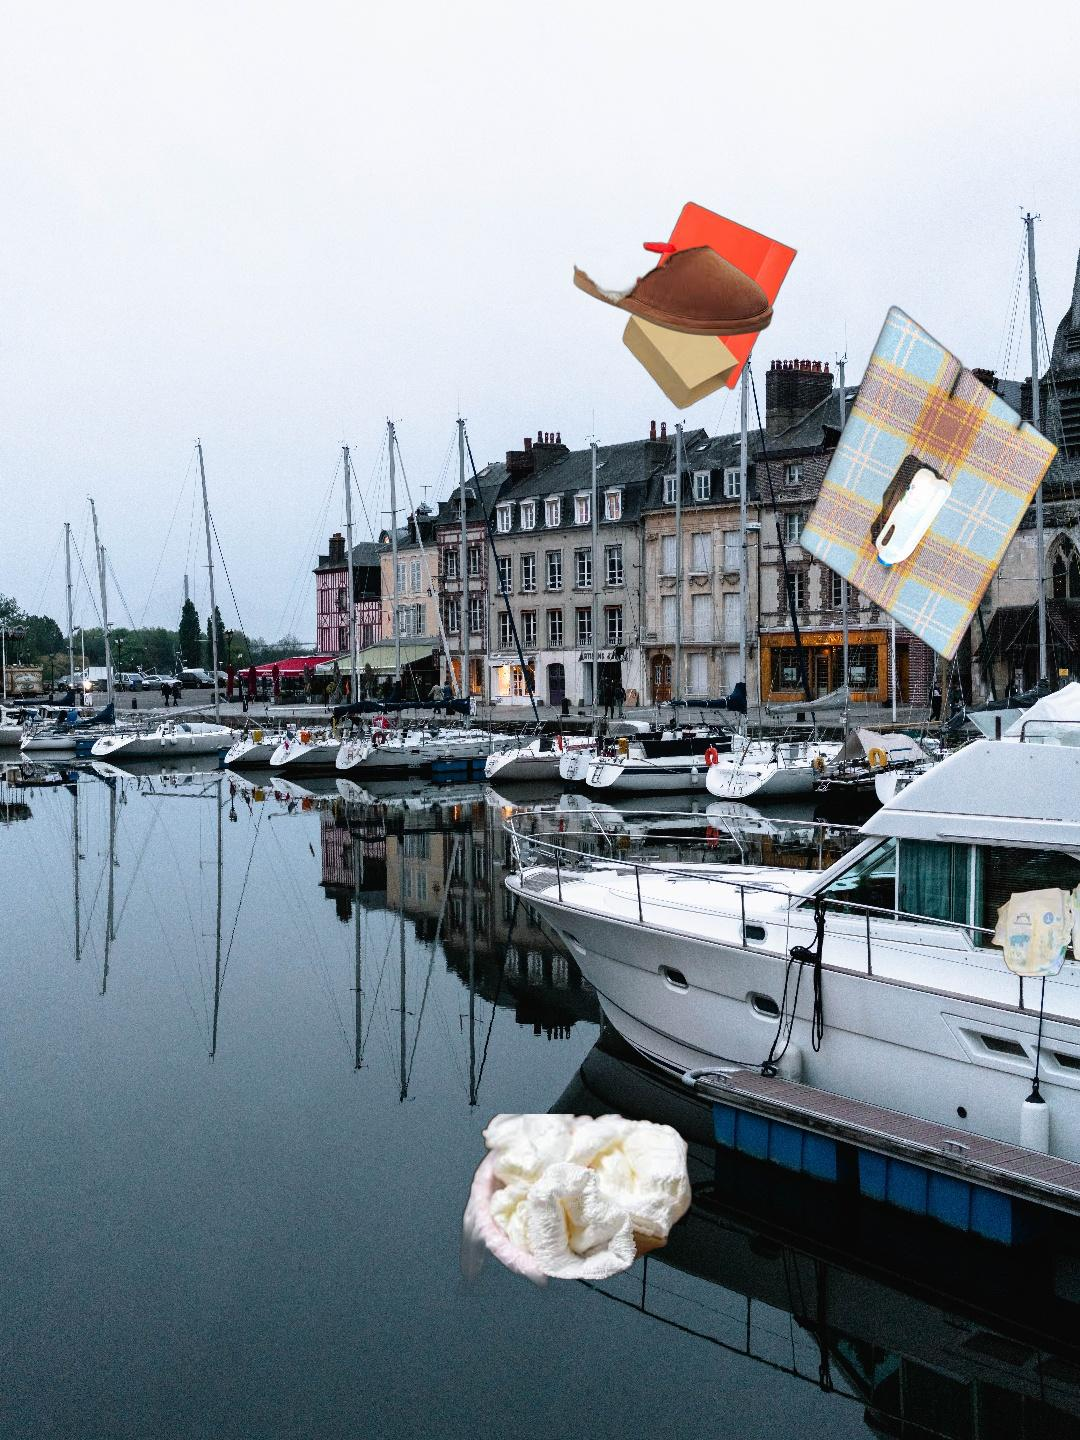paper-bag: (621, 200, 847, 477)
plastic-bottles: (794, 300, 1064, 739)
shoes: (571, 239, 776, 339)
trash: (452, 1113, 695, 1297), (988, 876, 1080, 979)
